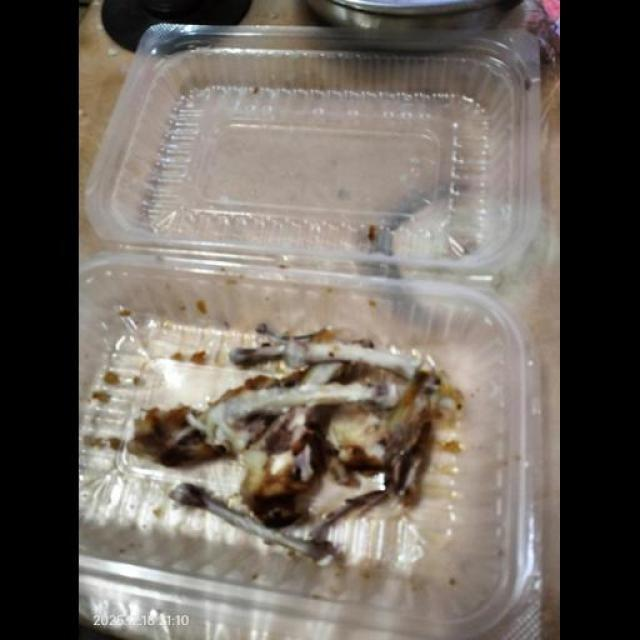organic: (116, 130, 482, 608)
